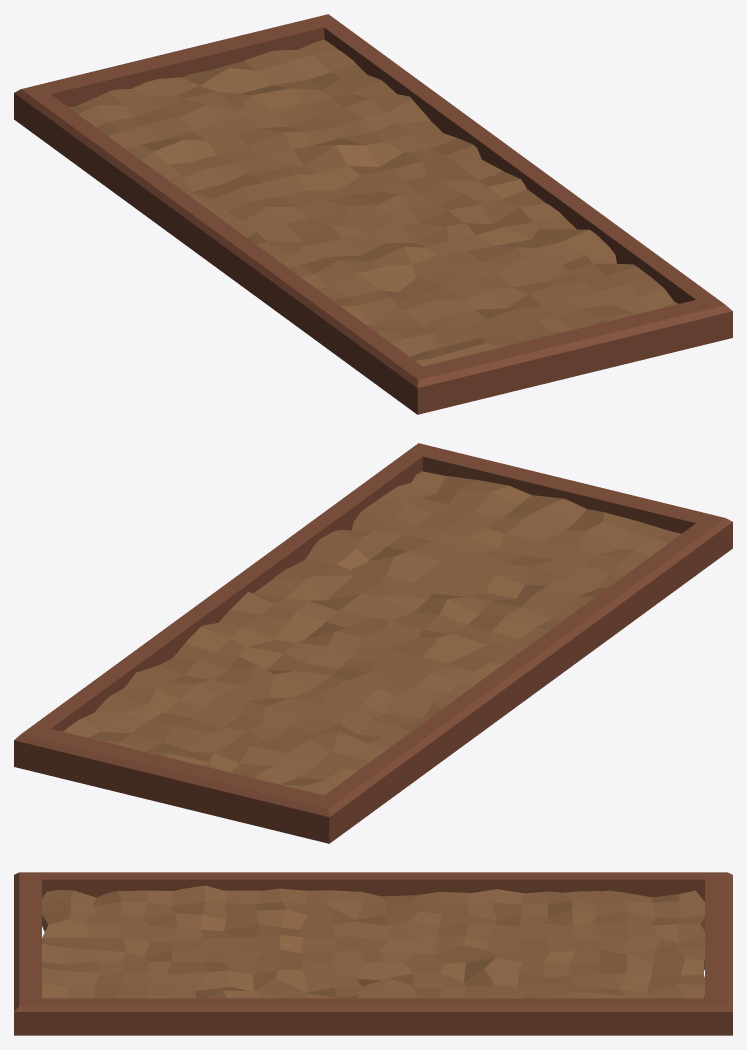
File: ekim_alan.fbx
The picture shows the model from 3 angles, top to bottom: view 1: azimuth 30°, elevation 25°; view 2: azimuth 150°, elevation 25°; view 3: azimuth 270°, elevation 25°; orthographic projection. The views are drawn at different scales.
Parts seen in each view (by area): view 1: Cube.003; view 2: Cube.003; view 3: Cube.003.
Part boxes in pixels (box(x1,y1,x2,y2)): Cube.003: box(14, 14, 732, 414); Cube.003: box(14, 443, 732, 843); Cube.003: box(14, 872, 732, 1035).
Bounding box in the file's own units: 593 × 56.81 × 1313.
